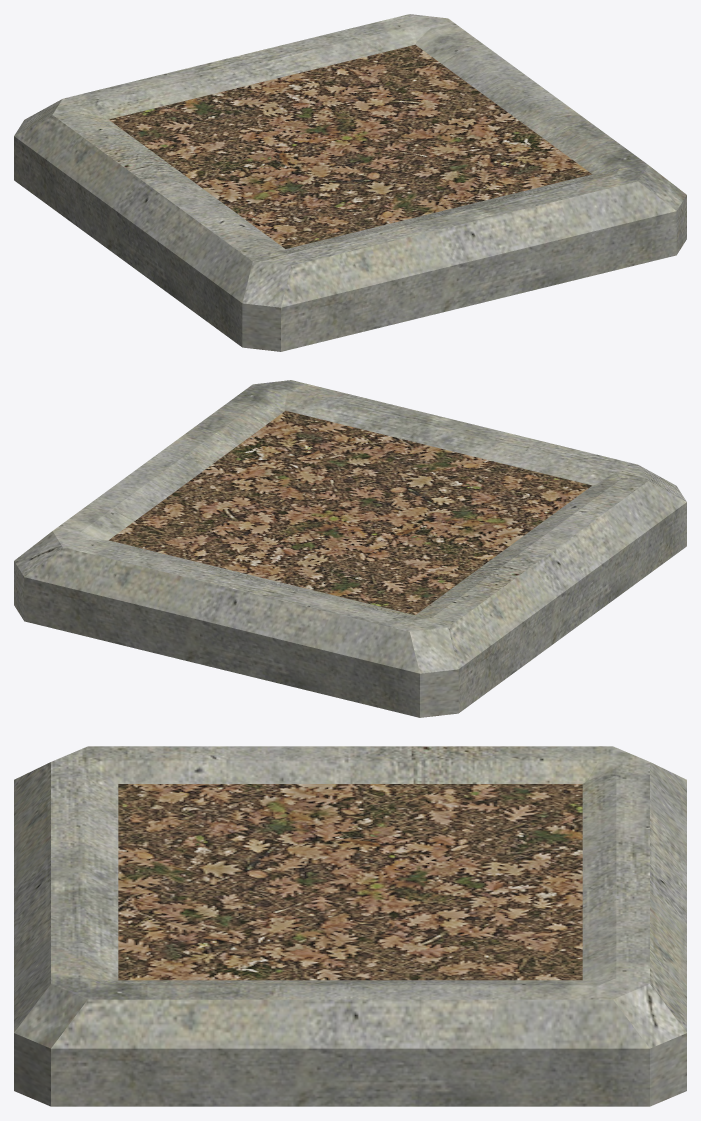
Rendered from DT_Planter_01.fbx.
The picture shows the model from 3 angles, top to bottom: view 1: azimuth 30°, elevation 25°; view 2: azimuth 150°, elevation 25°; view 3: azimuth 270°, elevation 25°; orthographic projection. The views are drawn at different scales.
Parts seen in each view (by area): view 1: DT_Planter_01; view 2: DT_Planter_01; view 3: DT_Planter_01.
Part boxes in pixels (<box>): DT_Planter_01: <box>14,14,686,351</box>; DT_Planter_01: <box>14,380,686,717</box>; DT_Planter_01: <box>14,746,686,1106</box>.
Size of the model in its own units: 100 by 15 by 100.
